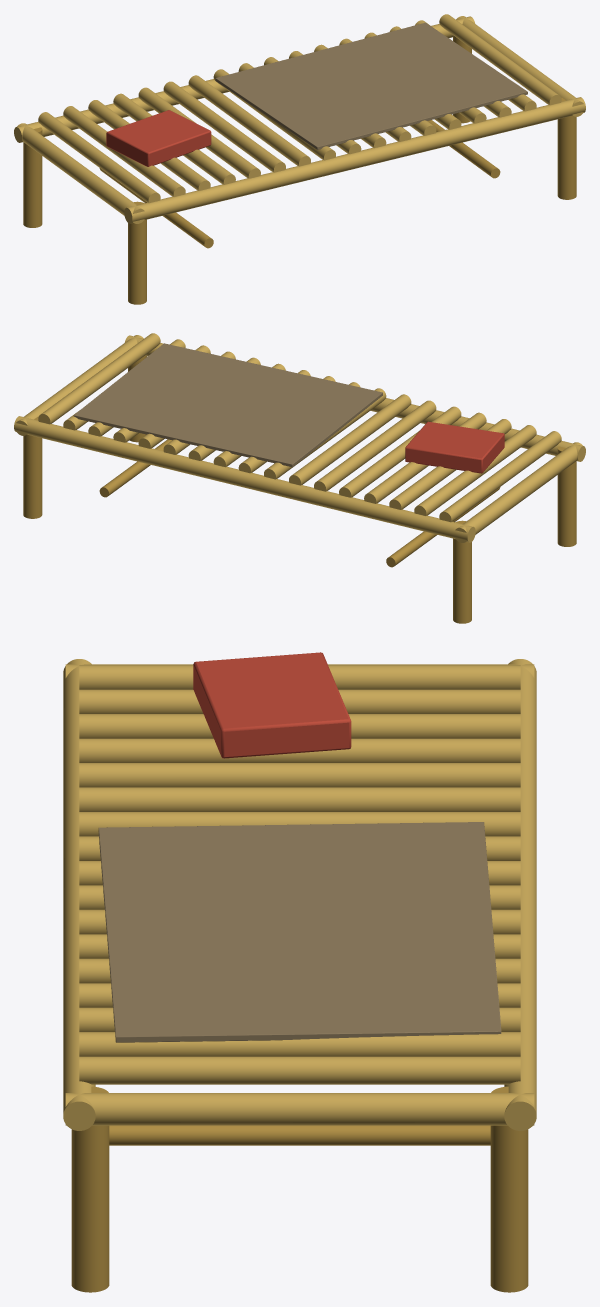
The model's file is ChongTre.glb.
3 renders of one model, top to bottom at view 1: azimuth 30°, elevation 25°; view 2: azimuth 150°, elevation 25°; view 3: azimuth 270°, elevation 25°, orthographic. The views are drawn at different scales.
Parts seen in each view (by area): view 1: ChongTre; view 2: ChongTre; view 3: ChongTre.
Part boxes in pixels (left/top/right/bottom): ChongTre: left=14, top=14, right=585, bottom=304; ChongTre: left=14, top=333, right=585, bottom=623; ChongTre: left=63, top=652, right=536, bottom=1292.
Bounding box in the file's own units: 1.9 × 0.48 × 0.859.
